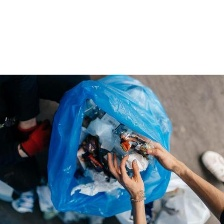plastic_bag: (44, 73, 175, 221)
